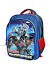bag: (6, 8, 45, 62)
